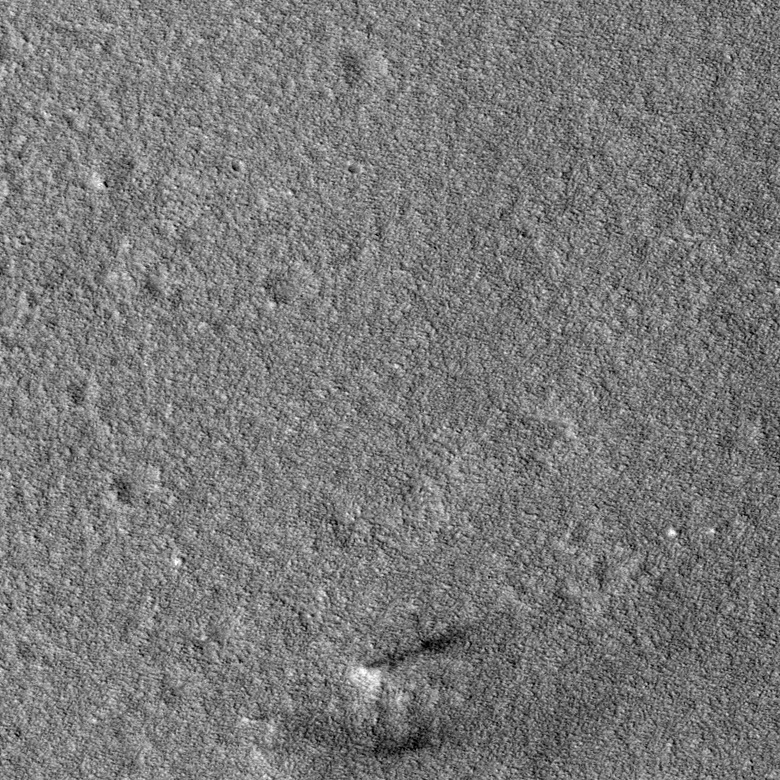dust_devil: (236, 710, 440, 767), (345, 613, 478, 694)
